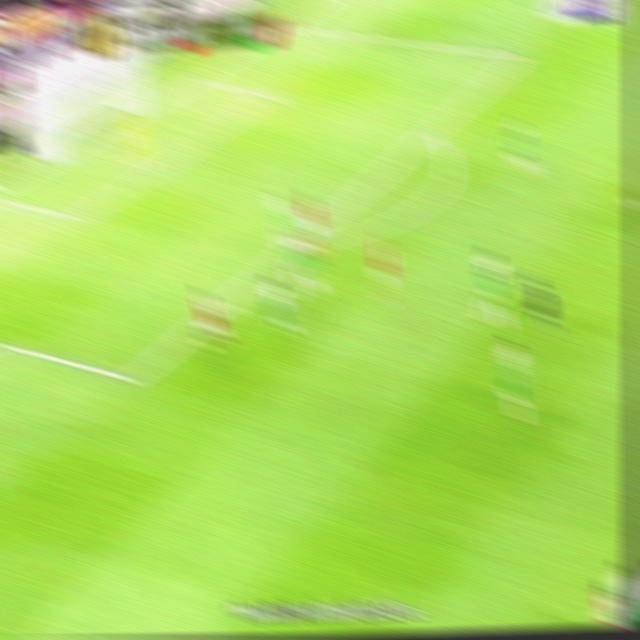bigarea_bottom_inner: (114, 359, 148, 395)
bigarea_top_inner: (506, 44, 531, 67)
bigarea_top_outter: (274, 15, 298, 35)
bottom_arc_area_intersection: (284, 233, 307, 255)
smallarea_bottom_inner: (61, 199, 92, 231)
smallarea_top_inner: (255, 82, 282, 106)
smallarea_top_outter: (181, 67, 207, 91)
top_arc_area_intersection: (416, 120, 441, 143)
